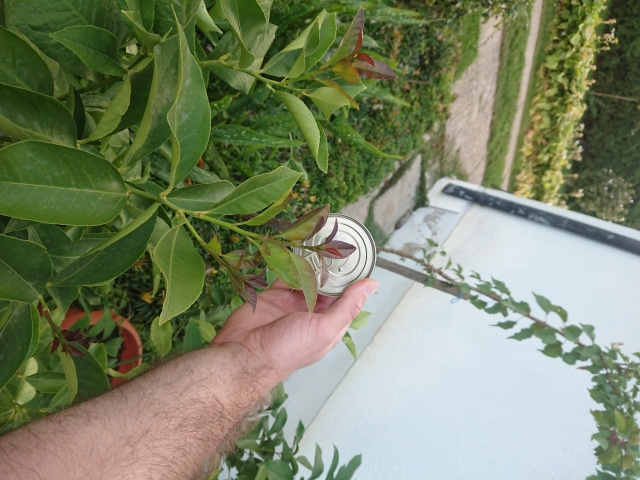Podravka Luncheon Meat 150g: (287, 211, 379, 300)
